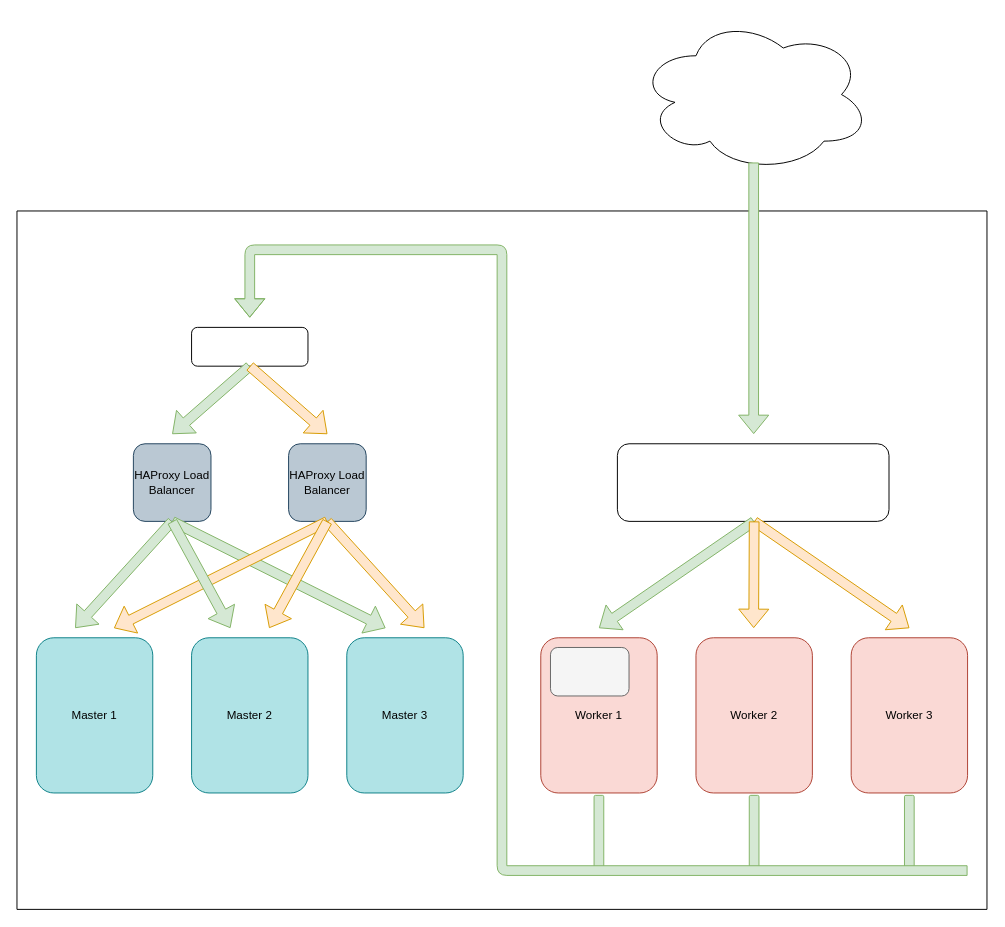
The diagram is 1005 pixels wide and 927 high, and some of its shapes have lost their labels. Each missing label, with the centre of its shape:
MetalLB Load-Balancer: the point at 752,482
NGINX Ingress Controller: the point at 589,671
VRRP API: the point at 249,346
